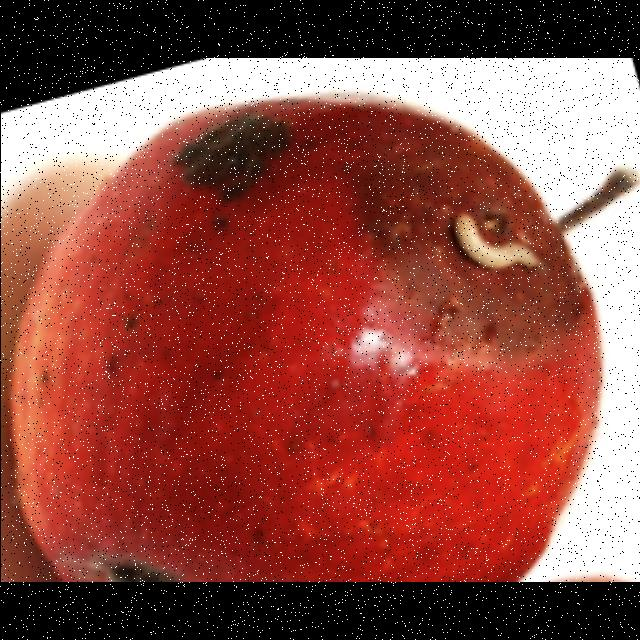Apel Tidak Segar: (3, 101, 607, 582)
